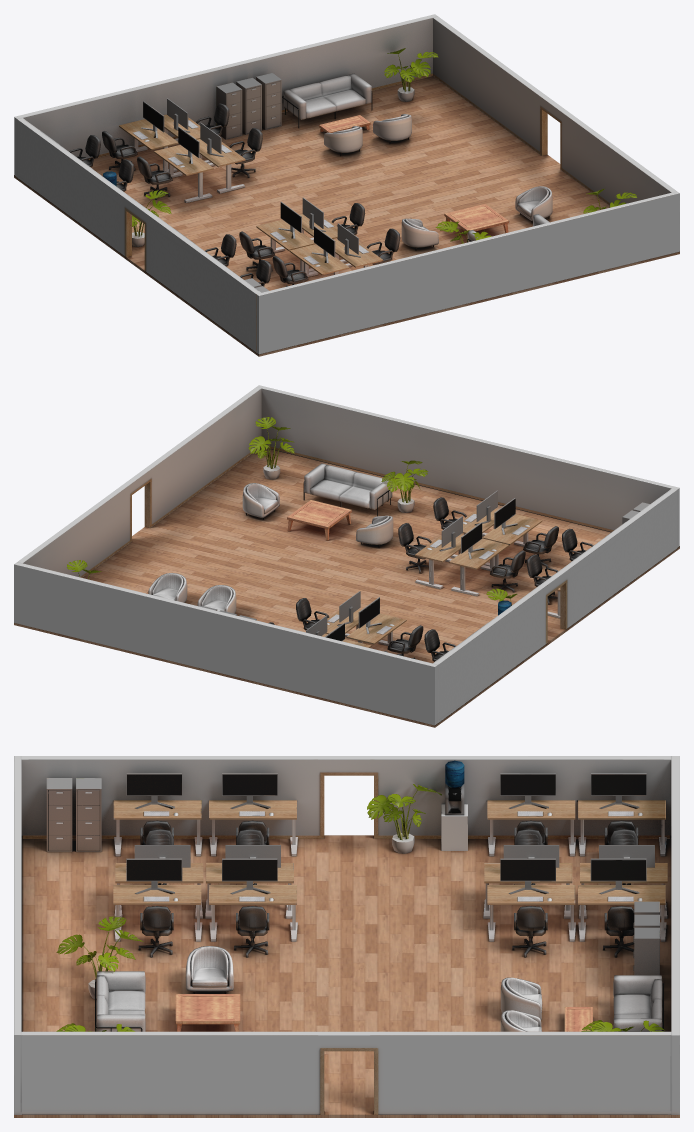
File: room-middle.glb
3 renders of one model, top to bottom at view 1: azimuth 30°, elevation 25°; view 2: azimuth 150°, elevation 25°; view 3: azimuth 270°, elevation 25°, orthographic. The views are drawn at different scales.
Parts seen in each view (by area): view 1: Middle Room Wall, middle room floor, sala do meio moveis; view 2: Middle Room Wall, middle room floor, sala do meio moveis; view 3: Middle Room Wall, middle room floor, sala do meio moveis.
Boxes of the visible parts, x1,y1,x2,y2 form: Middle Room Wall: (14,14,679,354); middle room floor: (14,76,679,356); sala do meio moveis: (39,48,637,292); Middle Room Wall: (14,385,679,725); middle room floor: (14,447,679,727); sala do meio moveis: (67,417,649,661); Middle Room Wall: (14,756,679,1114); middle room floor: (14,835,679,1117); sala do meio moveis: (46,760,667,1031).
Size of what is drawn, in the model's own units: 30.32 by 4.51 by 30.54.
3 materials, 3 textured.
